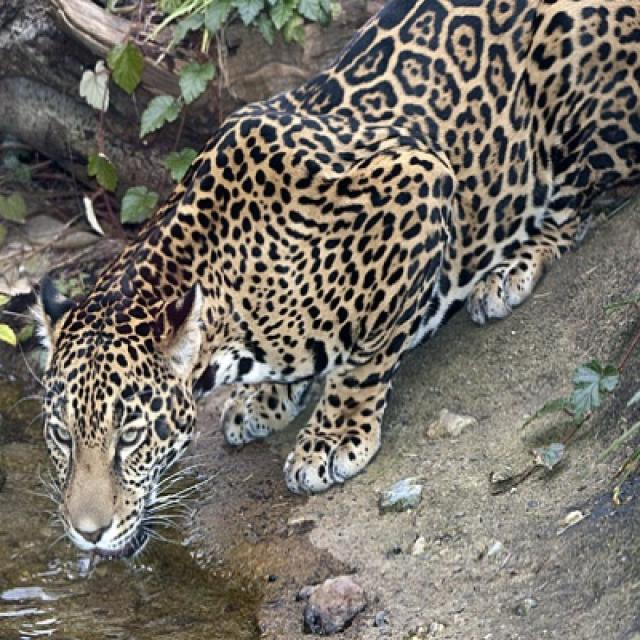Jaguar: (40, 0, 638, 562)
